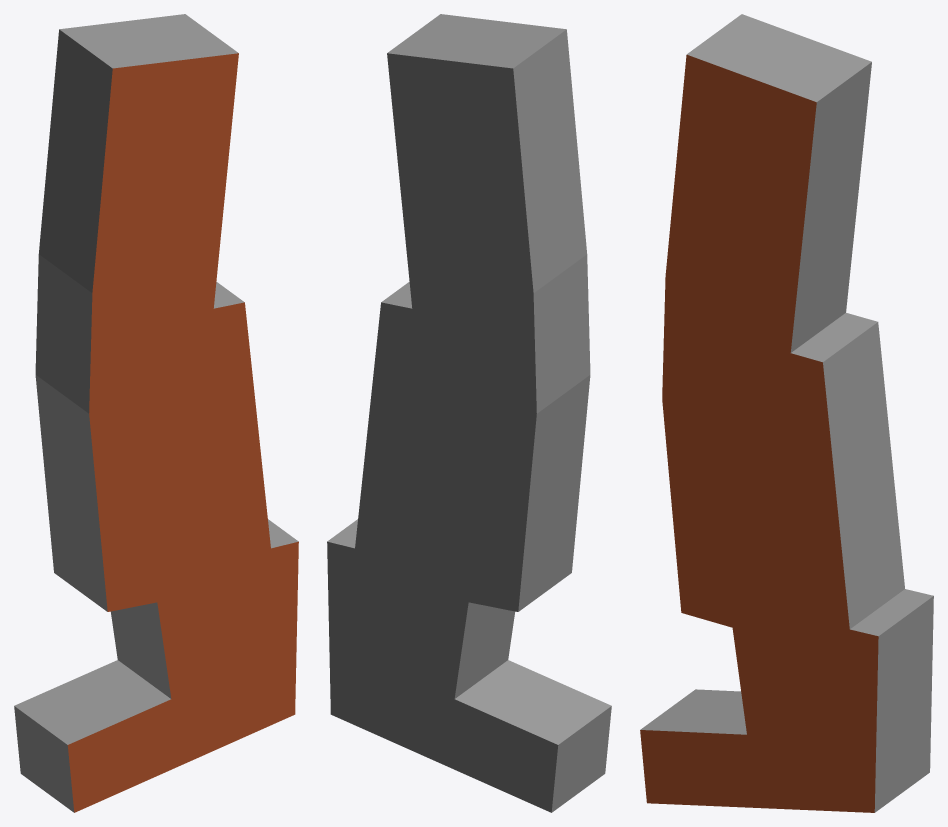
Rendered from construction_4955_assumed_A_Casa_h6m.obj.
3 renders of one model, left to right at view 1: azimuth 30°, elevation 25°; view 2: azimuth 150°, elevation 25°; view 3: azimuth 330°, elevation 25°, orthographic. The views are drawn at different scales.
Visible parts, largest first — view 1: construction_4955_assumed_A_Casa; view 2: construction_4955_assumed_A_Casa; view 3: construction_4955_assumed_A_Casa.
Part boxes in pixels (x1,y1,x2,y2): construction_4955_assumed_A_Casa: (14, 14, 298, 812); construction_4955_assumed_A_Casa: (327, 14, 611, 812); construction_4955_assumed_A_Casa: (640, 14, 933, 812).
Size of the model in its own units: 14.93 by 45.38 by 6.
